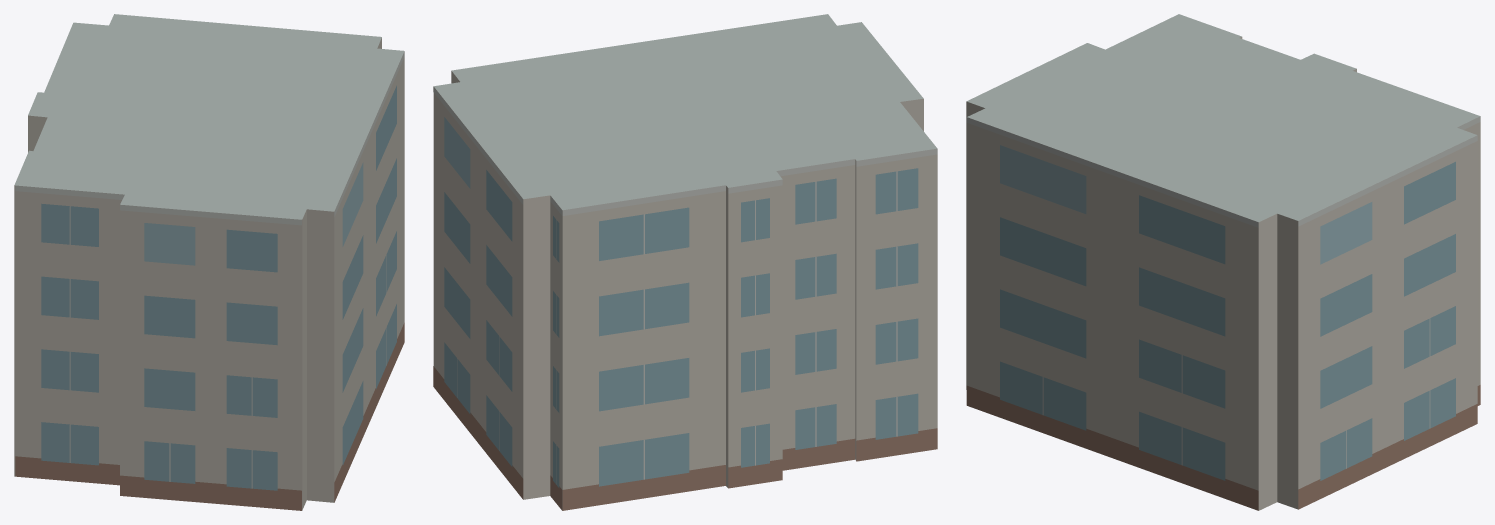
The model's file is survey-upis-32662456.glb.
3 views of the same model, side by side, from view 1: azimuth 30°, elevation 25°; view 2: azimuth 150°, elevation 25°; view 3: azimuth 270°, elevation 25° (orthographic). The views are drawn at different scales.
Visible parts, largest first — view 1: survey-upis-32662456.tmp; view 2: survey-upis-32662456.tmp; view 3: survey-upis-32662456.tmp.
Boxes of the visible parts, x1,y1,x2,y2 form: survey-upis-32662456.tmp: (14, 14, 404, 510); survey-upis-32662456.tmp: (433, 14, 937, 510); survey-upis-32662456.tmp: (966, 14, 1480, 510).
Bounding box in the file's own units: 19.36 × 12.5 × 20.19.
